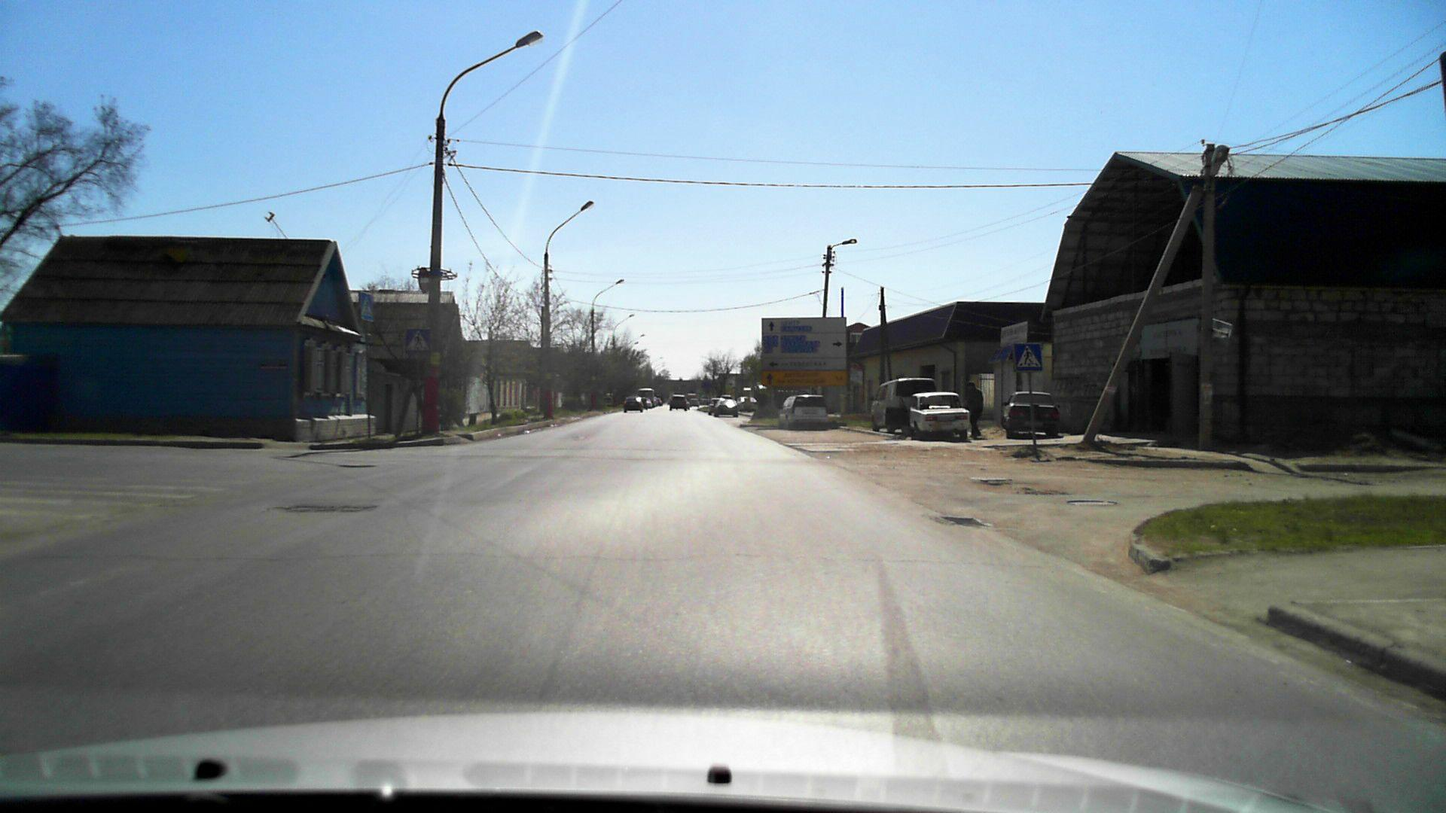road_sign: (1012, 342, 1046, 372), (406, 328, 431, 353)
